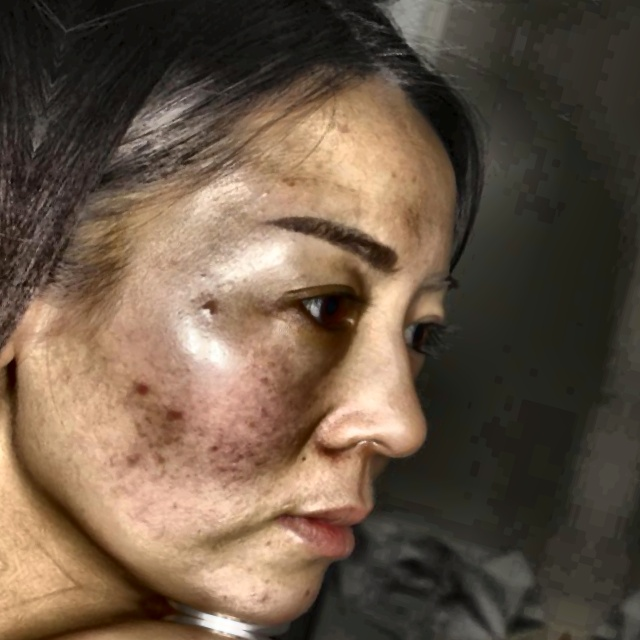comedone: (111, 370, 162, 417), (152, 402, 200, 441)
